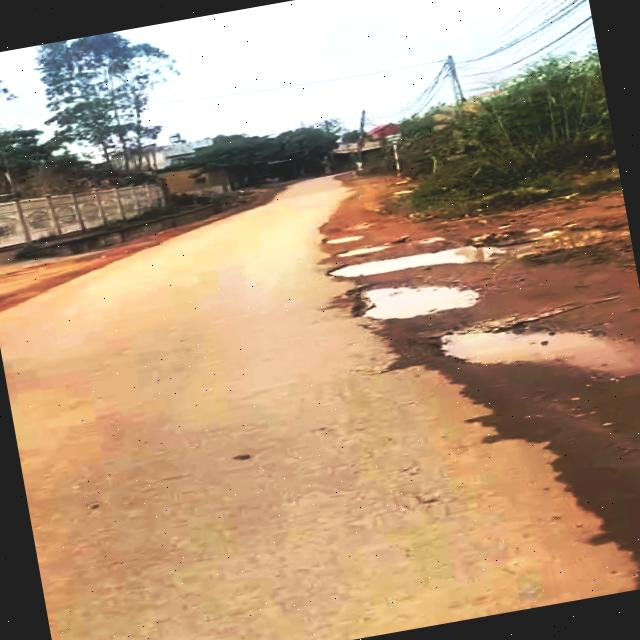pothole: (418, 287, 640, 412), (322, 228, 507, 292), (339, 265, 482, 332)
